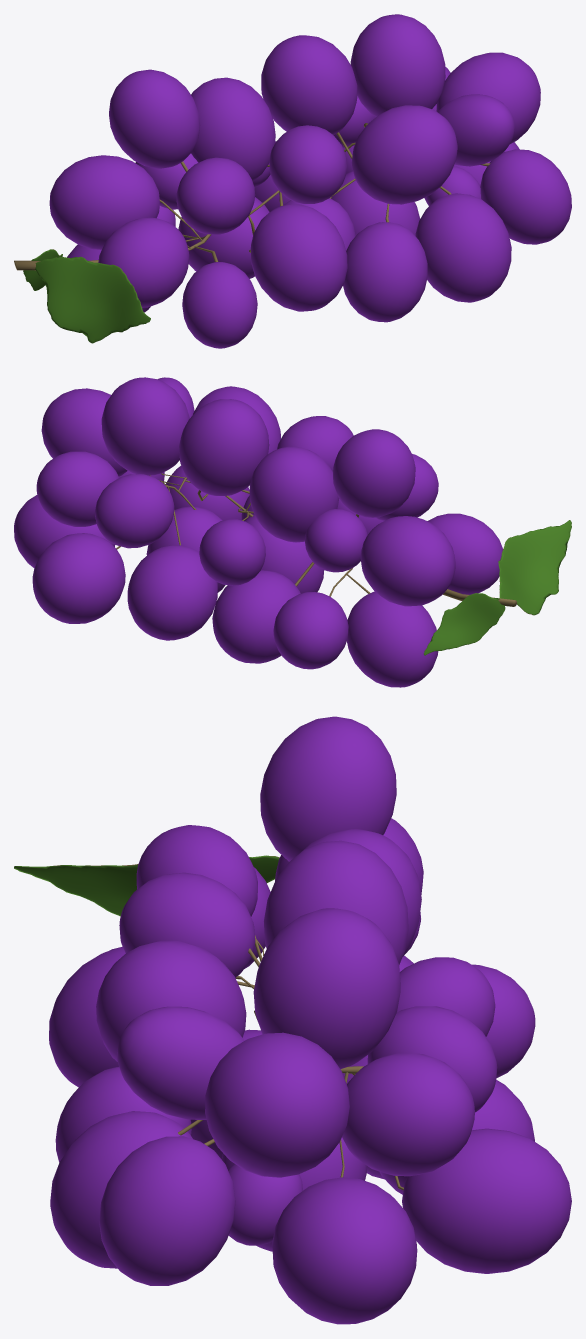
File: anggur2.glb
3 views of the same model, one above another, from view 1: azimuth 30°, elevation 25°; view 2: azimuth 150°, elevation 25°; view 3: azimuth 270°, elevation 25° (orthographic). The views are drawn at different scales.
Parts seen in each view (by area): view 1: grapes, Plane, vine; view 2: grapes, Plane, vine; view 3: grapes, Plane, vine.
Boxes of the visible parts, <box> form: grapes: <box>49,14,571,348</box>; Plane: <box>23,249,150,343</box>; vine: <box>14,123,490,270</box>; grapes: <box>14,377,502,687</box>; Plane: <box>423,520,571,655</box>; vine: <box>116,473,516,606</box>; grapes: <box>49,716,571,1324</box>; Plane: <box>14,855,279,916</box>; vine: <box>178,935,403,1190</box>.
Size of the model in its own units: 1252 by 578 by 765.
Materials: 1 (1 with a texture image).
